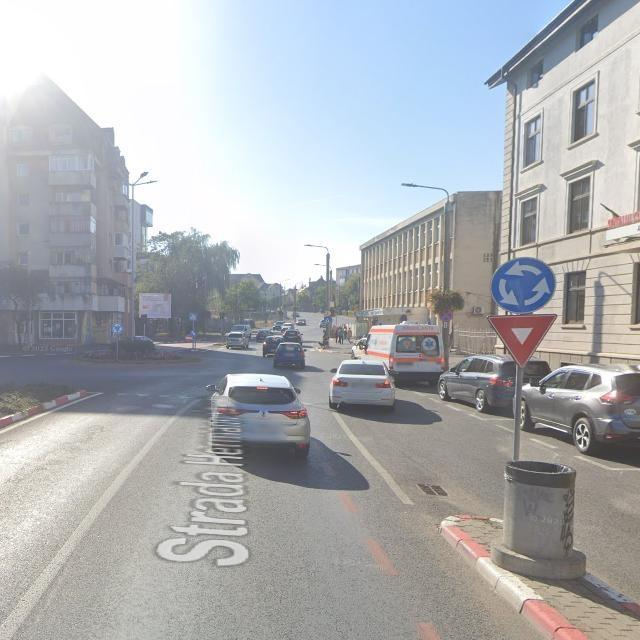forb_waiting: (439, 308, 454, 323)
prio_give_way: (487, 313, 557, 369)
